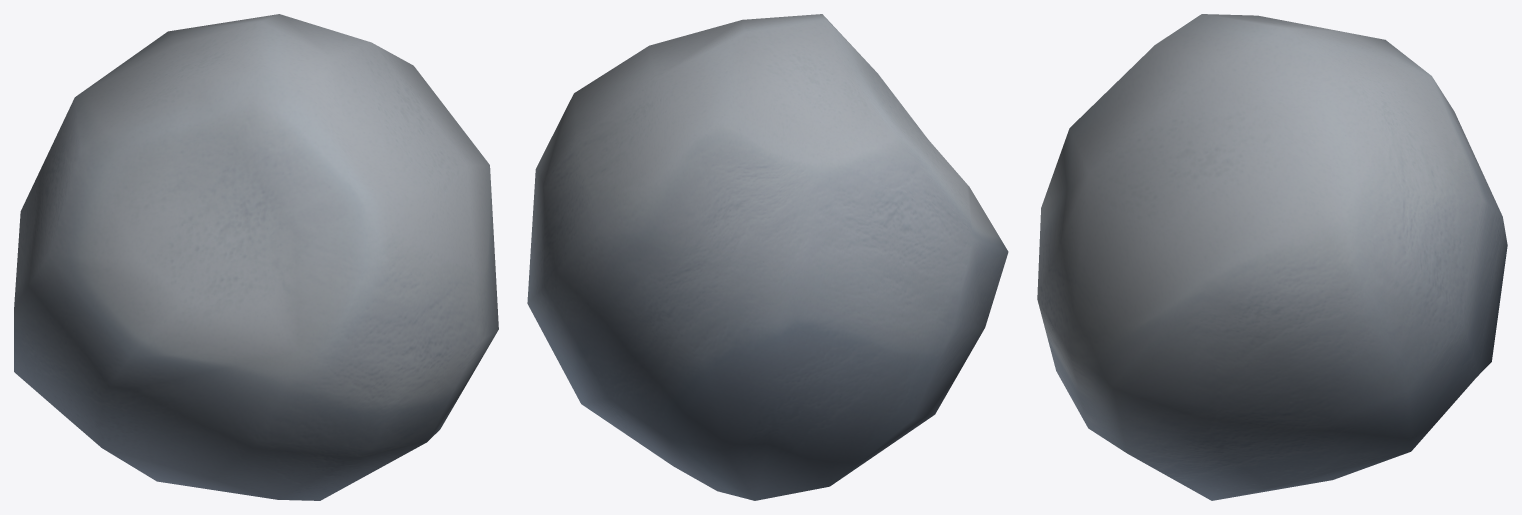
File: SilverRock.FBX
3 views of the same model, side by side, from view 1: azimuth 30°, elevation 25°; view 2: azimuth 150°, elevation 25°; view 3: azimuth 270°, elevation 25° (orthographic). The views are drawn at different scales.
Visible parts, largest first — view 1: SilverRock; view 2: SilverRock; view 3: SilverRock.
Boxes of the visible parts, left/top/right/bottom form: SilverRock: left=14, top=14, right=498, bottom=500; SilverRock: left=527, top=14, right=1008, bottom=500; SilverRock: left=1037, top=14, right=1507, bottom=500.
Size of the model in its own units: 66.94 by 69.52 by 64.39.
1 material, 1 textured.
